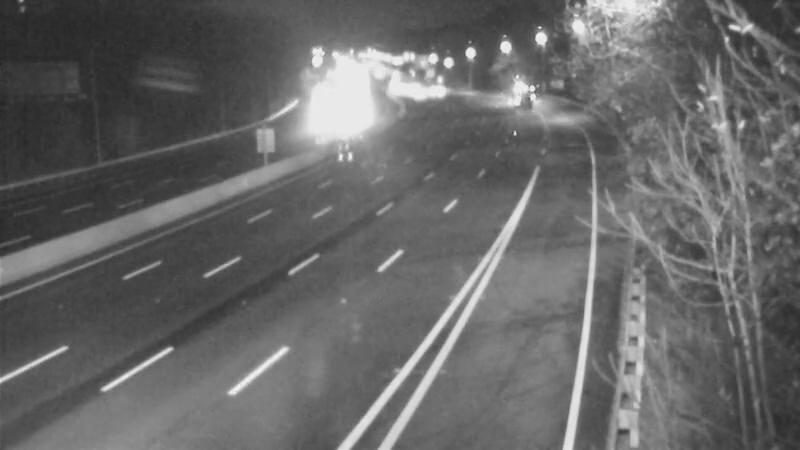vehicle: (498, 64, 548, 114)
